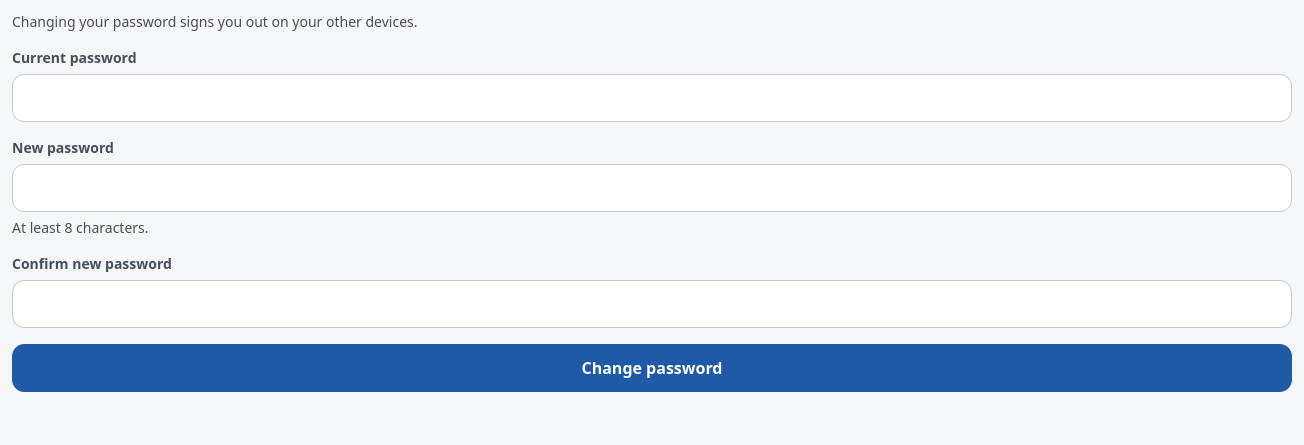
Test: ChangePasswordForm › says the current password is incorrect and does not change anything
The width and height of the screenshot is (1304, 445).
In the password field labelled "Current password": (652, 98) [12,74,1292,122], type "old-password"
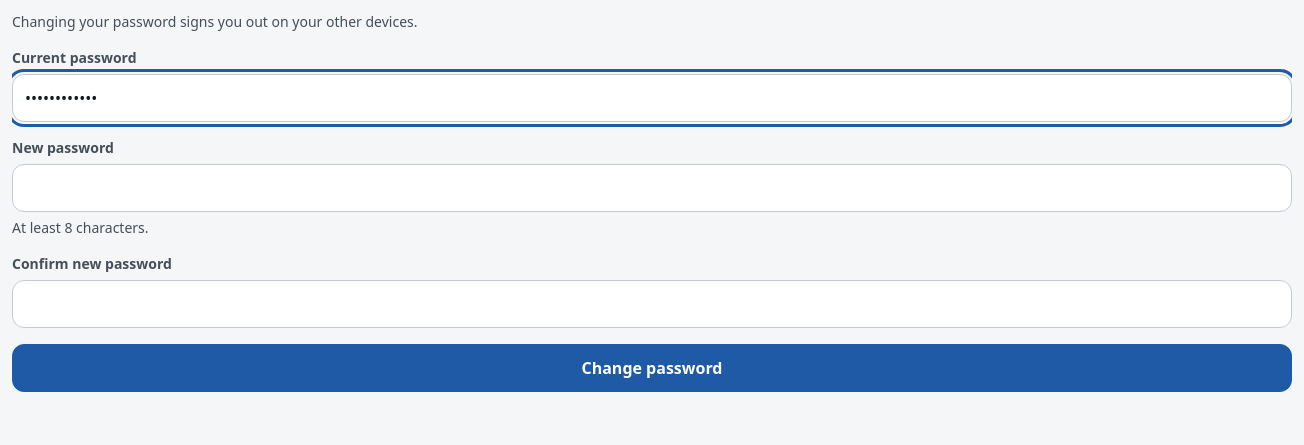
In the password field labelled "New password": (652, 188) [12,164,1292,212], type "new-password-1"
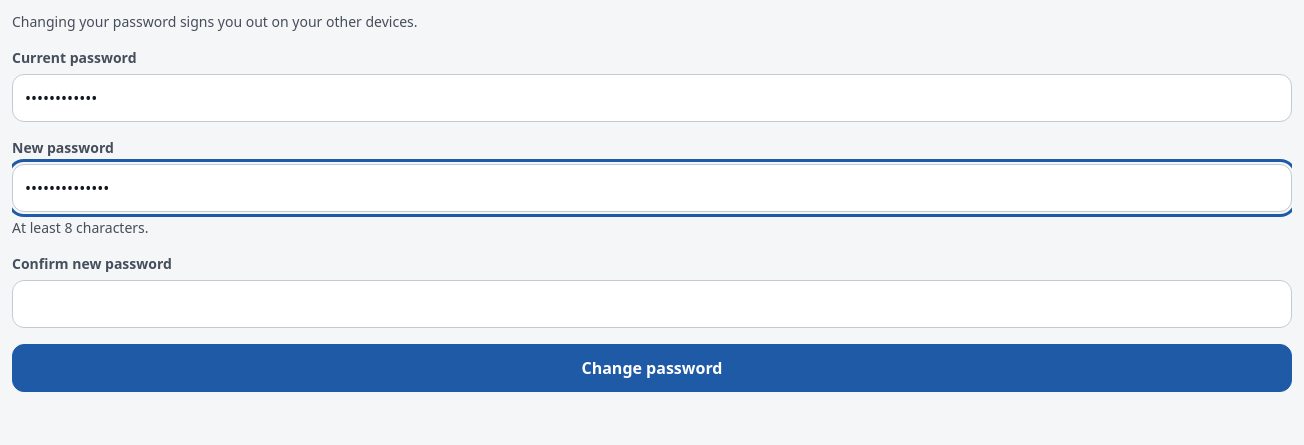
In the password field labelled "Confirm new password": (652, 304) [12,280,1292,328], type "new-password-1"
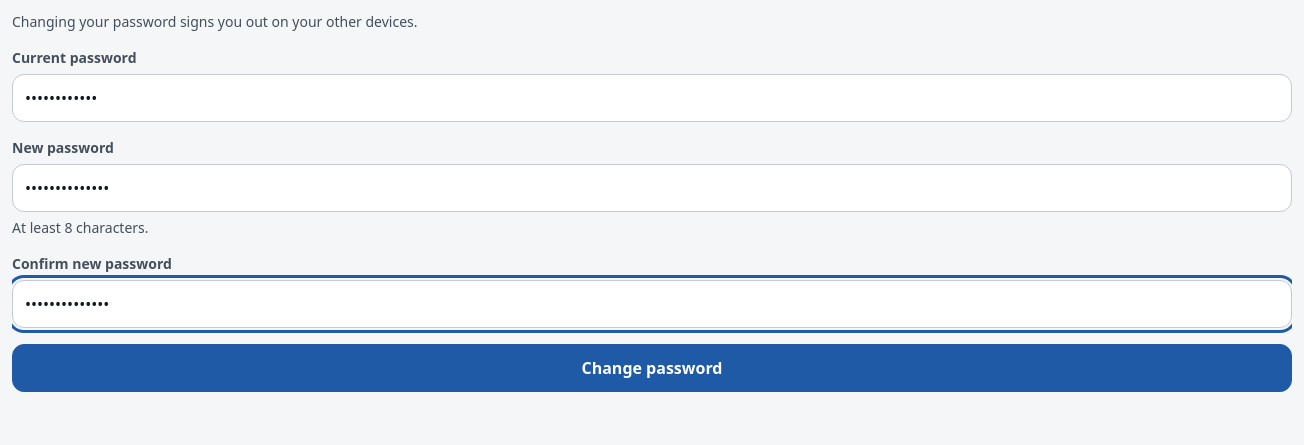
Click the button "Change password": (652, 368) [12,344,1292,392]
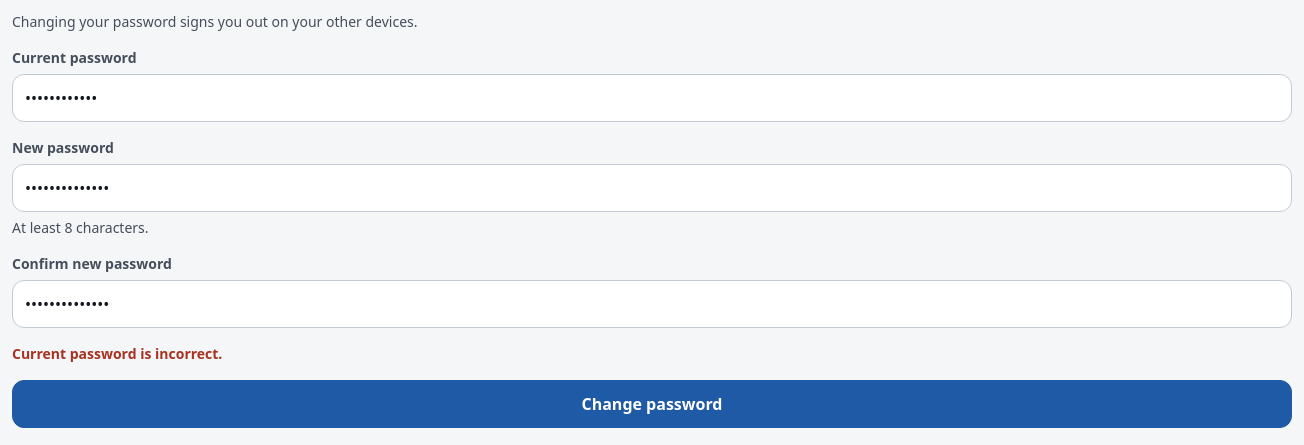
Expected: the message shows "Current password is incorrect", [12,344,222,363]
